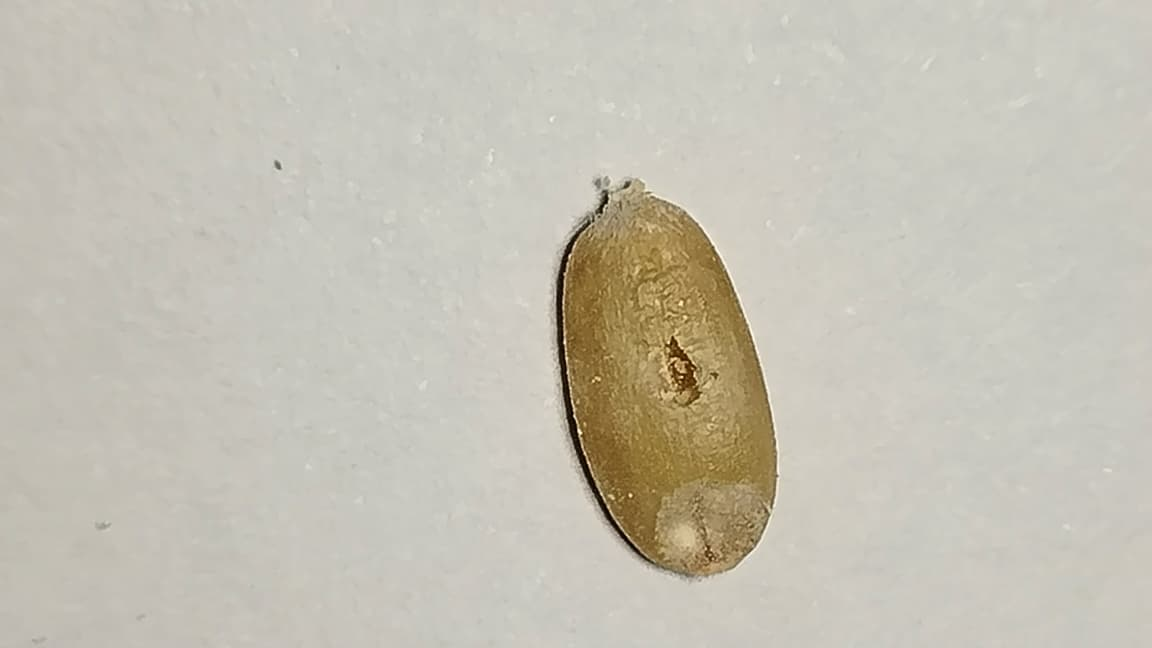damage: (558, 199, 776, 574)
insectdamage: (646, 473, 778, 583), (613, 313, 739, 411)
